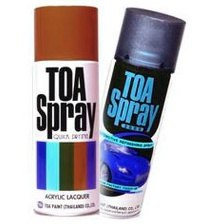aerosol_cans: (79, 2, 188, 222), (24, 2, 105, 221)
